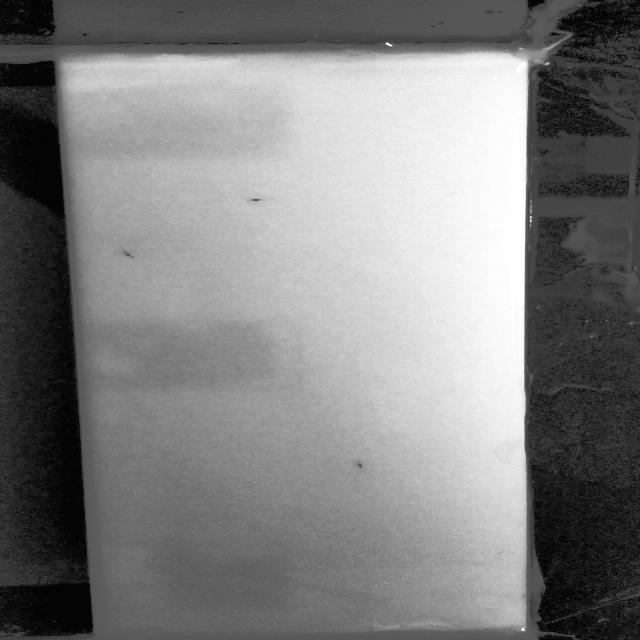shrimp: (245, 194, 271, 205), (122, 247, 144, 259), (348, 463, 372, 473)
